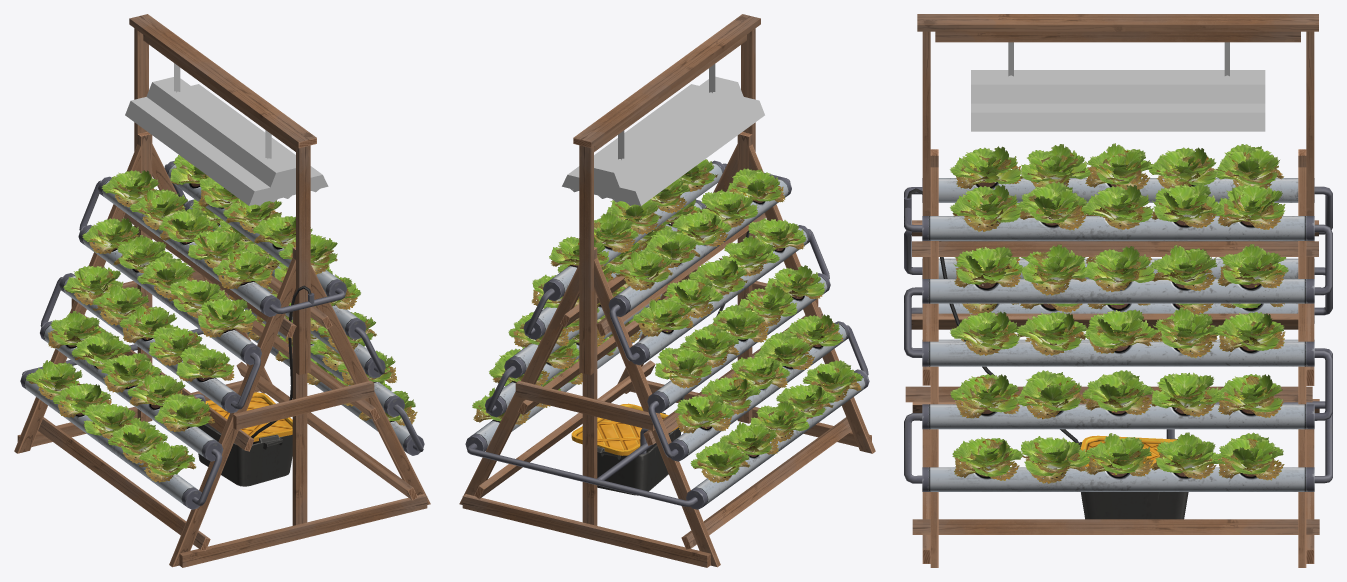
Rendered from hydroponics_V03_lettuce .fbx.
The picture shows the model from 3 angles, left to right: view 1: azimuth 30°, elevation 25°; view 2: azimuth 150°, elevation 25°; view 3: azimuth 270°, elevation 25°; orthographic projection. The views are drawn at different scales.
Visible parts, largest first — view 1: hydroponics_V03_lettuce, hydroponics_V03_lettuce _S3, hydroponics_V03_lettuce _lamp, hydroponics_V03_lettuce _S4, hydroponics_V03_lettuce _S2; view 2: hydroponics_V03_lettuce, hydroponics_V03_lettuce _S3, hydroponics_V03_lettuce _lamp, hydroponics_V03_lettuce _S4, hydroponics_V03_lettuce _S2, hydroponics_V03_lettuce _S1; view 3: hydroponics_V03_lettuce, hydroponics_V03_lettuce _S3, hydroponics_V03_lettuce _lamp, hydroponics_V03_lettuce _S4, hydroponics_V03_lettuce _S2, hydroponics_V03_lettuce _S1.
Boxes of the visible parts, x1,y1,x2,y2 form: hydroponics_V03_lettuce: [14, 132, 430, 567]; hydroponics_V03_lettuce _S3: [26, 155, 415, 475]; hydroponics_V03_lettuce _lamp: [125, 14, 328, 374]; hydroponics_V03_lettuce _S4: [28, 162, 417, 482]; hydroponics_V03_lettuce _S2: [36, 167, 406, 470]; hydroponics_V03_lettuce: [459, 132, 875, 567]; hydroponics_V03_lettuce _S3: [472, 159, 862, 476]; hydroponics_V03_lettuce _lamp: [562, 14, 764, 375]; hydroponics_V03_lettuce _S4: [473, 167, 861, 482]; hydroponics_V03_lettuce _S2: [480, 169, 850, 466]; hydroponics_V03_lettuce _S1: [571, 175, 843, 464]; hydroponics_V03_lettuce: [904, 149, 1332, 567]; hydroponics_V03_lettuce _S3: [950, 143, 1288, 476]; hydroponics_V03_lettuce _lamp: [917, 14, 1318, 278]; hydroponics_V03_lettuce _S4: [952, 150, 1285, 483]; hydroponics_V03_lettuce _S2: [957, 158, 1276, 469]; hydroponics_V03_lettuce _S1: [973, 160, 1262, 461].
Bounding box in the file's own units: 1.94 × 2.67 × 2.19.
